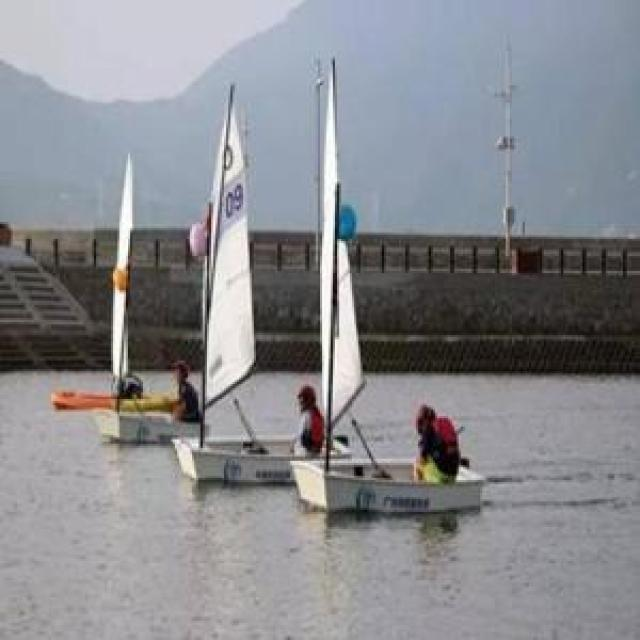sailboat: (300, 58, 486, 516), (174, 78, 342, 483), (92, 144, 197, 444)
